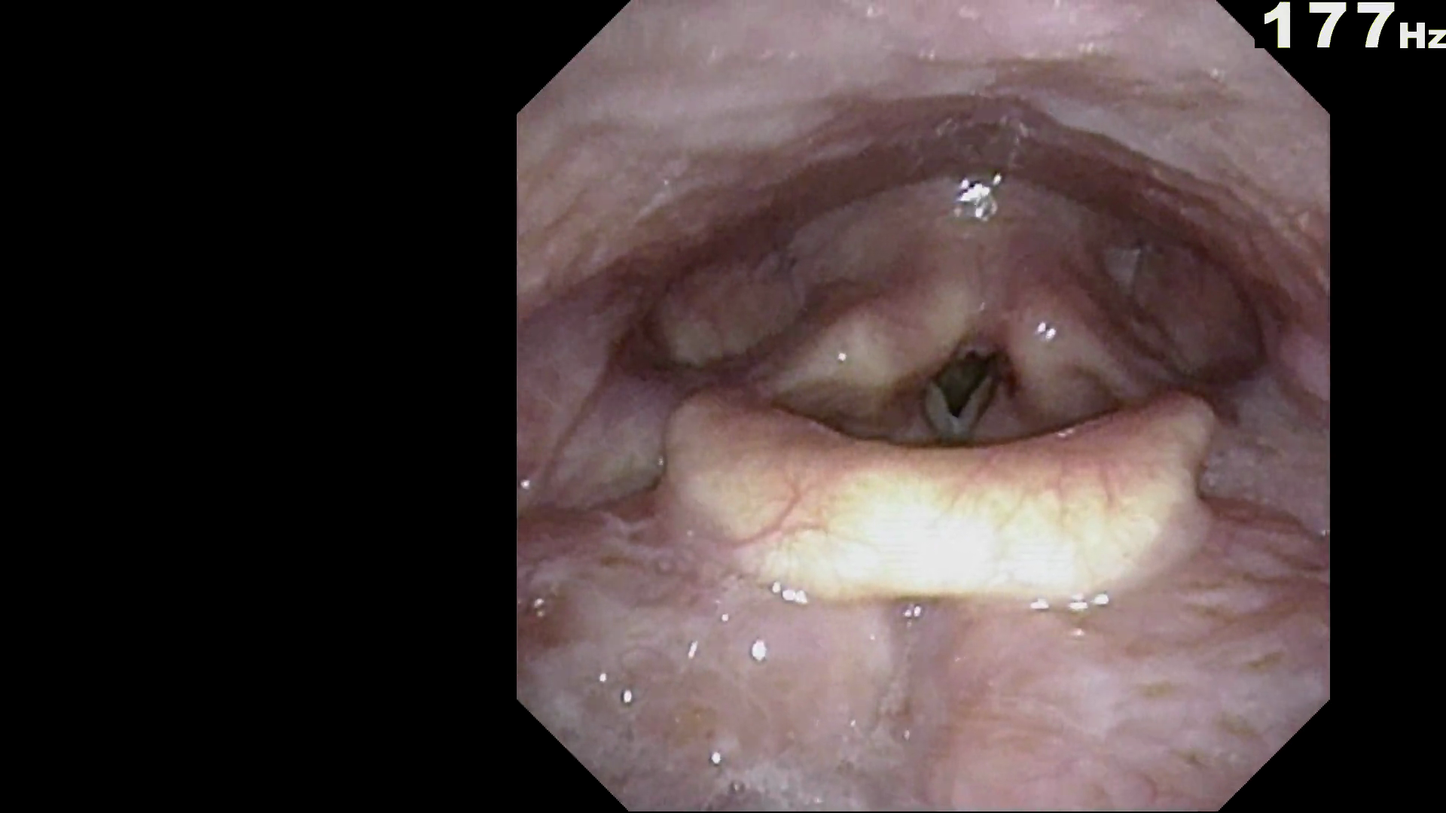epiglottis: (643, 349, 1215, 602)
trachea: (892, 277, 1055, 481), (926, 322, 1017, 445)
